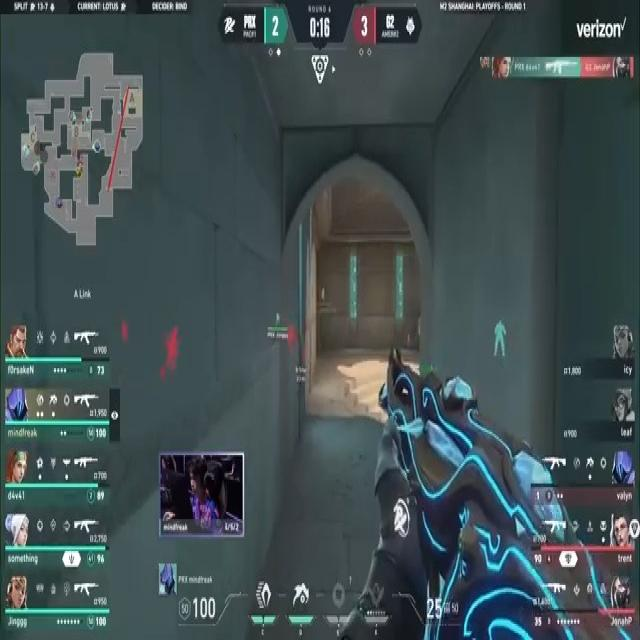ally behind wall: (493, 314, 507, 361)
